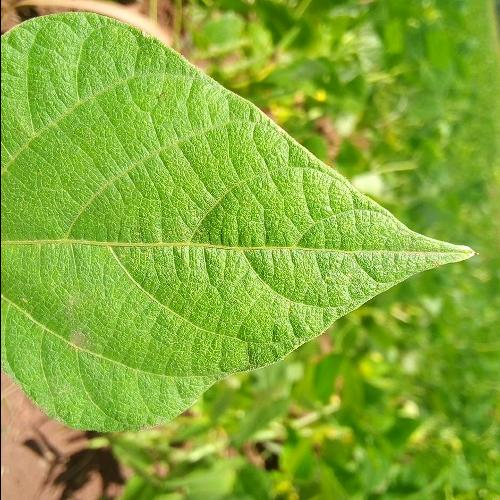sehat: (113, 146, 277, 340), (18, 37, 117, 133)
